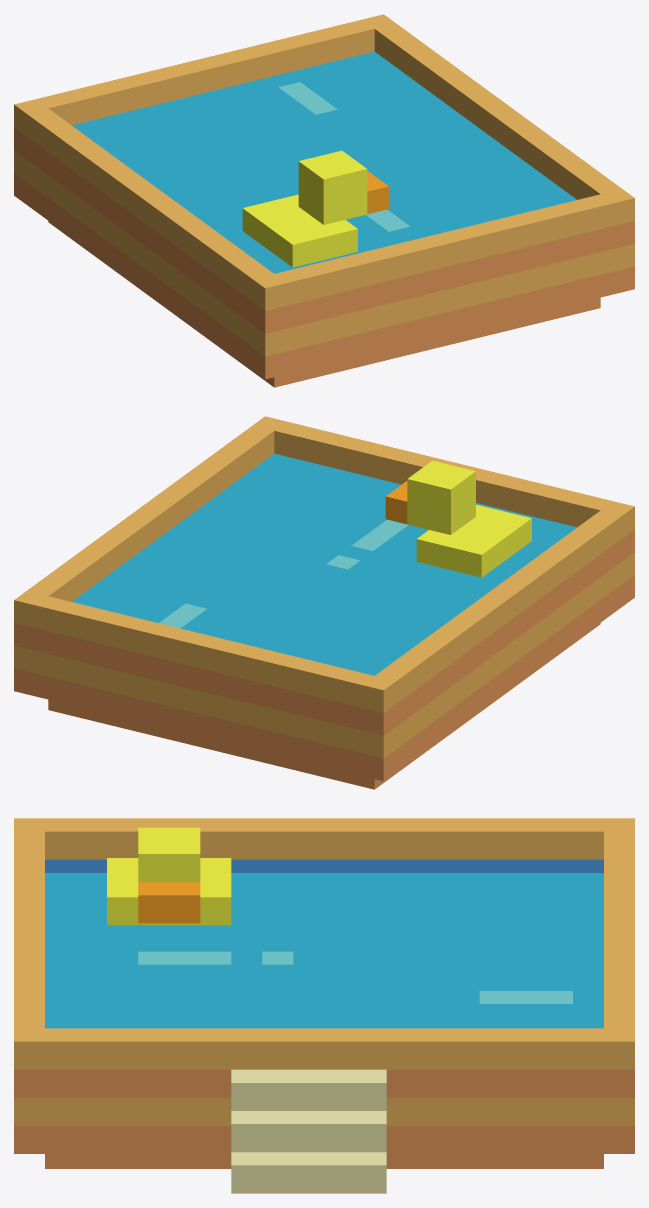
The model's file is pool.glb.
3 views of the same model, one above another, from view 1: azimuth 30°, elevation 25°; view 2: azimuth 150°, elevation 25°; view 3: azimuth 270°, elevation 25° (orthographic). The views are drawn at different scales.
Parts seen in each view (by area): view 1: pool.vox.005; view 2: pool.vox.005; view 3: pool.vox.005.
Part boxes in pixels (<box>): pool.vox.005: <box>14,14,634,387</box>; pool.vox.005: <box>14,416,634,789</box>; pool.vox.005: <box>14,818,634,1193</box>.
Size of the model in its own units: 2 by 0.7 by 2.
Materials: 1 (1 with a texture image).
